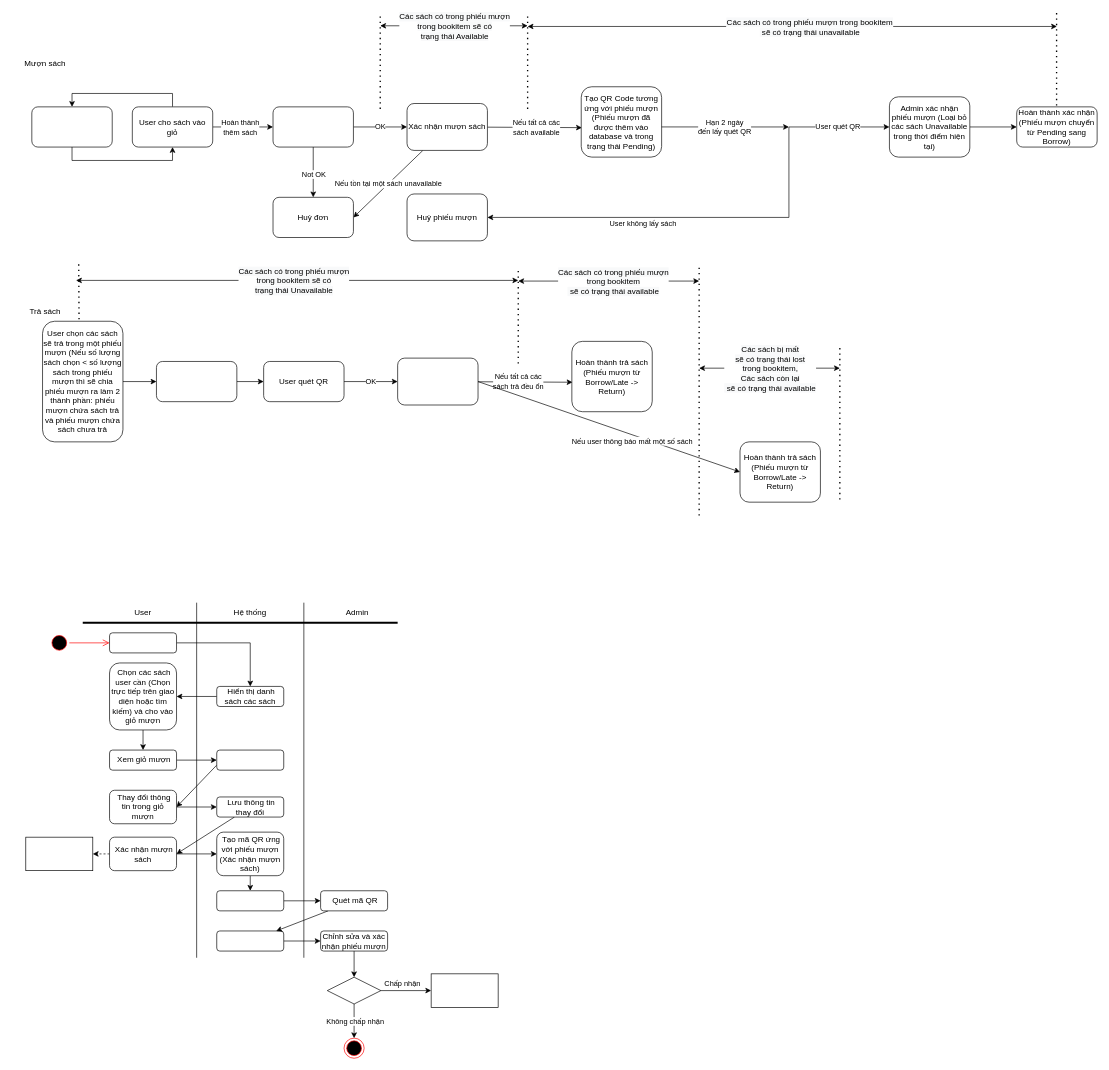
Image size: 1109x1070. Some labels were removed from this diagram. Each missing label, with the centre of its shape:
Admin xác nhận trả sách: (437,381)
Chọn duyệt sách: (143,642)
Hiển thị mã QR: (250,900)
Hiển thị phiếu mượn của user: (250,940)
Hiển thị thông tin giỏ mượn: (250,759)
Phiếu mượn Borrowed: (464,990)
Phiếu mượn Pending: (59,853)
User check giỏ: (312,126)
User tìm sách: (71,126)
User tạo QR cho số sách trả đó: (196,381)
